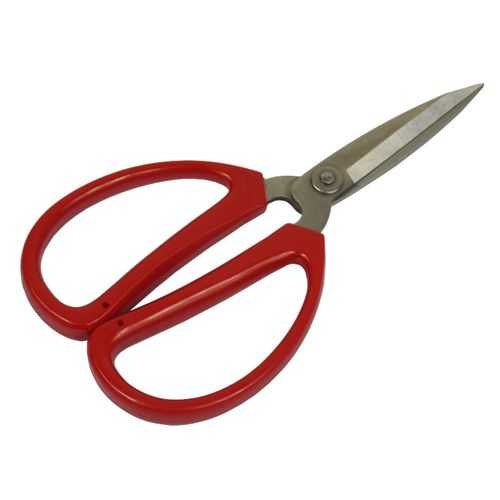scissor: (20, 79, 487, 427)
